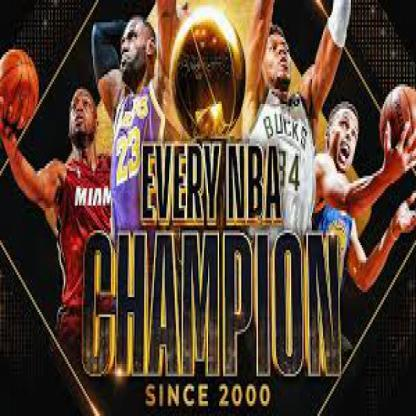basketball: (0, 49, 42, 129), (380, 84, 414, 166)
